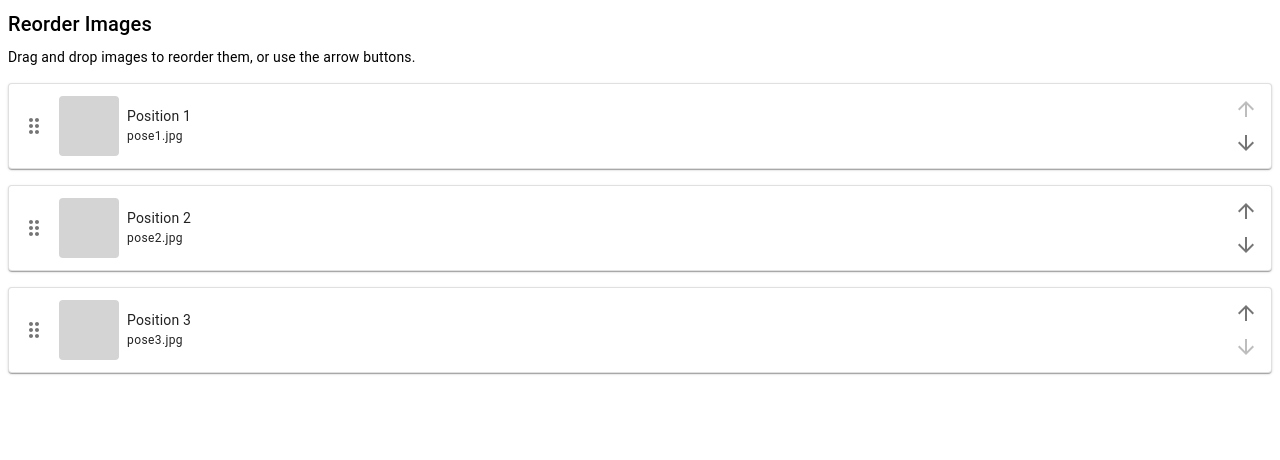
Scenario: ImageReorder › Button Navigation › should move image down when down arrow is clicked
Note: Click move down on first image (index 0)
Click the button named "Move down" in the row of "pose1.jpg": (1246, 143) [1229, 126, 1263, 160]
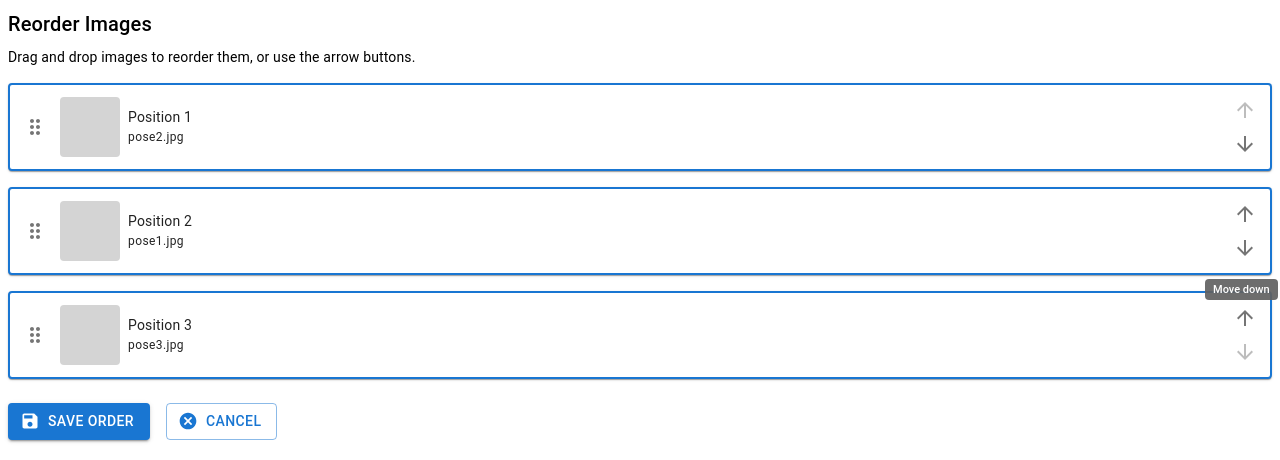
expect the button "Save Order" is shown: met, box [8, 403, 150, 440]
expect the button "Cancel" is shown: met, box [166, 403, 277, 440]
